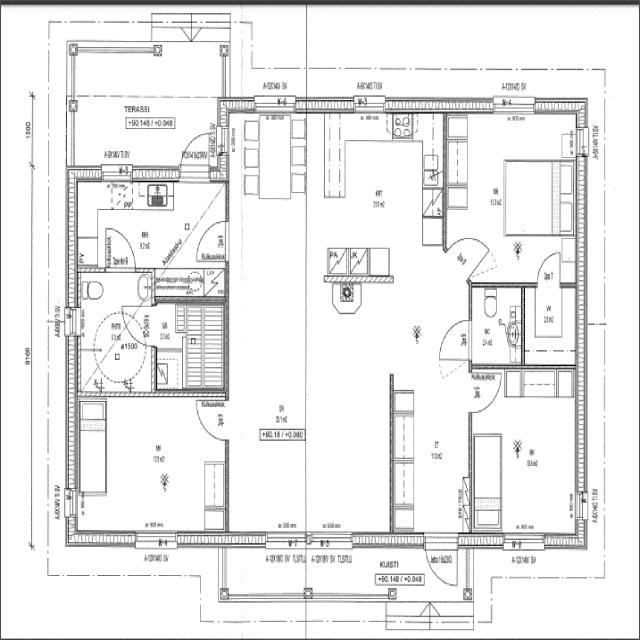door: (422, 530, 460, 585), (177, 128, 212, 182), (437, 315, 474, 362), (469, 366, 503, 414), (194, 216, 230, 261), (105, 224, 137, 272), (466, 236, 498, 279), (195, 398, 227, 440), (534, 248, 563, 289)
window: (490, 96, 538, 118), (252, 93, 300, 115), (308, 531, 355, 551), (502, 531, 547, 551), (134, 530, 178, 549), (352, 94, 388, 114), (100, 165, 133, 182), (575, 124, 589, 159)
zone: (224, 113, 472, 536), (445, 114, 580, 283), (73, 395, 225, 535), (473, 367, 580, 539), (72, 178, 227, 272), (79, 269, 154, 393), (152, 299, 228, 394), (502, 156, 574, 238), (468, 284, 524, 367), (522, 284, 578, 366)
